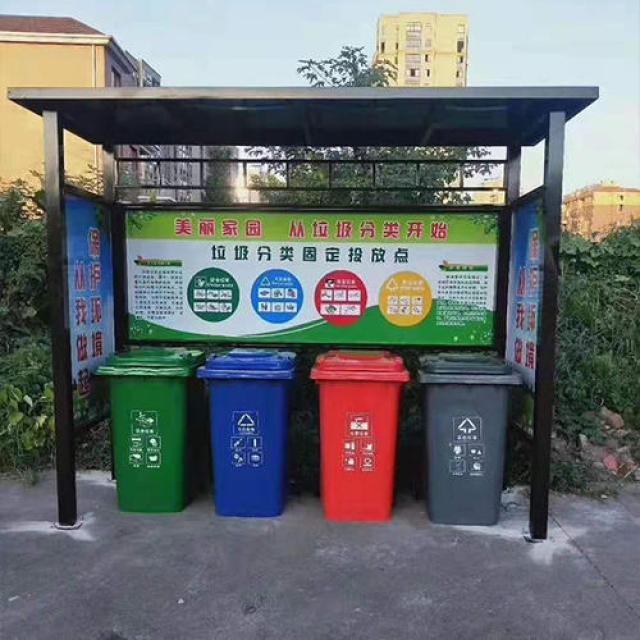garbage_bin: (93, 348, 205, 512), (417, 352, 521, 525), (307, 348, 408, 525), (196, 348, 296, 516)
